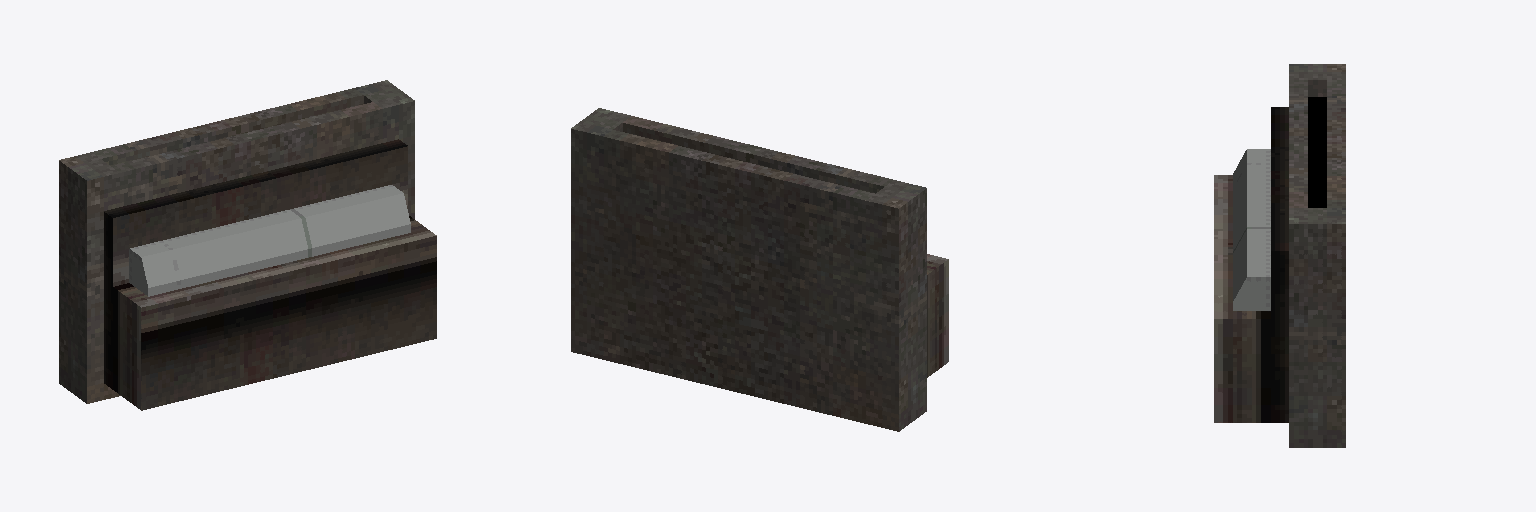
3 views of the same model, side by side, from view 1: azimuth 30°, elevation 25°; view 2: azimuth 150°, elevation 25°; view 3: azimuth 270°, elevation 25° (orthographic).
Visible parts, largest first — view 1: 12, 53, 4, 11, 55, 57; view 2: 55, 53, 57, 12; view 3: 12, 53, 55, 11, 4, 59, 47, 57.
Boxes of the visible parts, x1=… form: 12: x1=113, y1=216, x2=436, y2=410; 53: x1=78, y1=94, x2=414, y2=403; 4: x1=104, y1=139, x2=407, y2=389; 11: x1=129, y1=185, x2=410, y2=296; 55: x1=59, y1=80, x2=395, y2=389; 57: x1=68, y1=159, x2=109, y2=396; 55: x1=571, y1=122, x2=907, y2=431; 53: x1=590, y1=108, x2=926, y2=417; 57: x1=876, y1=187, x2=917, y2=424; 12: x1=927, y1=254, x2=948, y2=377; 12: x1=1214, y1=175, x2=1270, y2=422; 53: x1=1289, y1=64, x2=1307, y2=447; 55: x1=1327, y1=64, x2=1345, y2=447; 11: x1=1233, y1=149, x2=1270, y2=310; 4: x1=1271, y1=107, x2=1288, y2=422; 59: x1=1308, y1=208, x2=1326, y2=447; 47: x1=1308, y1=97, x2=1326, y2=207; 57: x1=1308, y1=64, x2=1326, y2=96.
Bounding box in the file's own units: 20 × 13 × 7.
Materials: 5 (5 with a texture image).